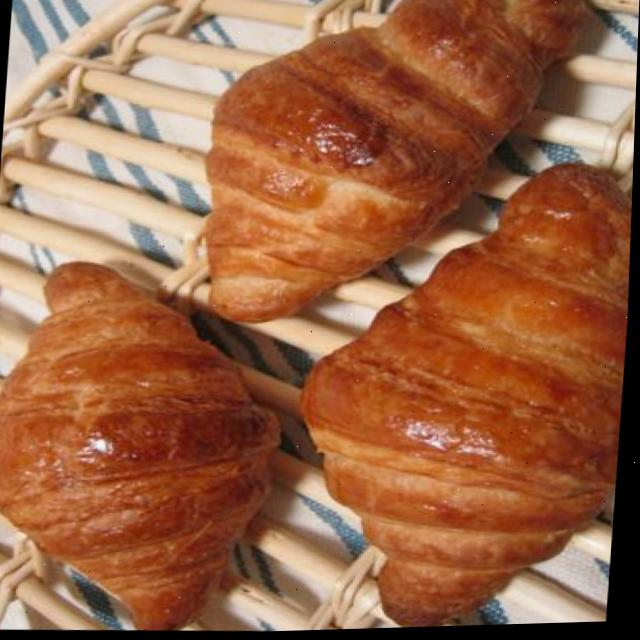面包点心: (259, 143, 635, 634)
